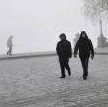person: (73, 30, 95, 81), (56, 33, 75, 80), (6, 34, 15, 58)
